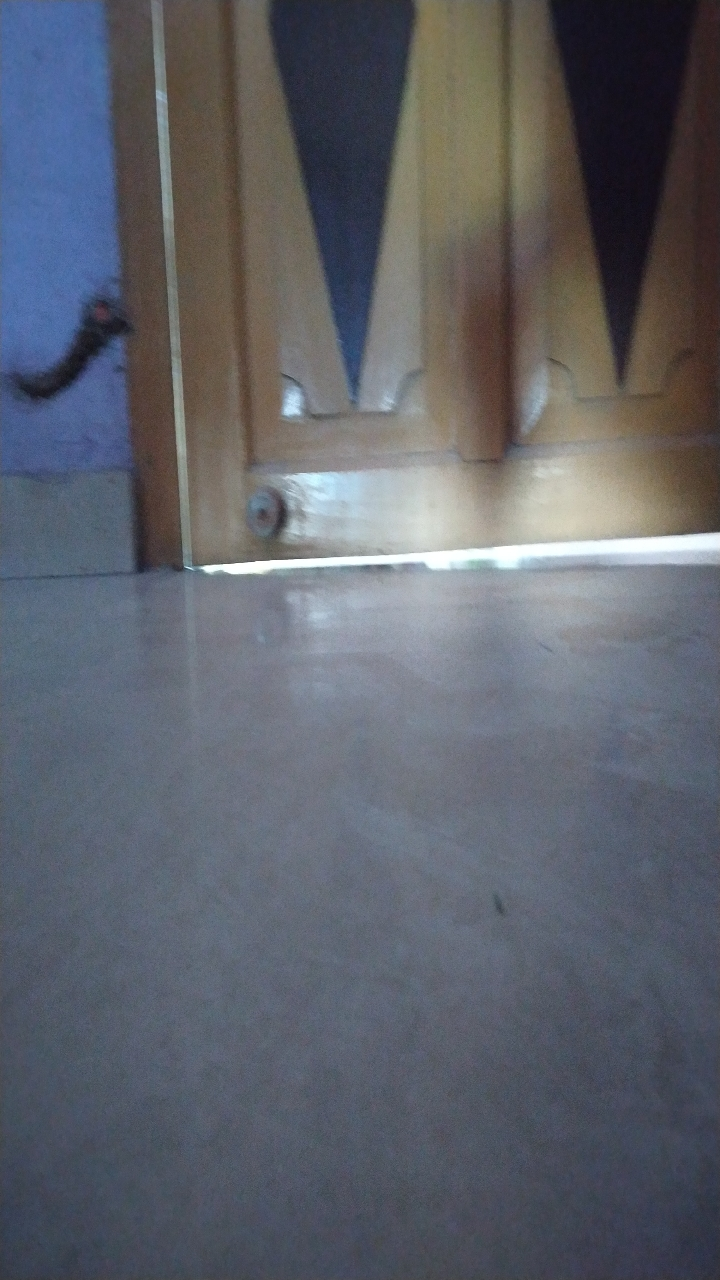Doors: (120, 103, 720, 590)
